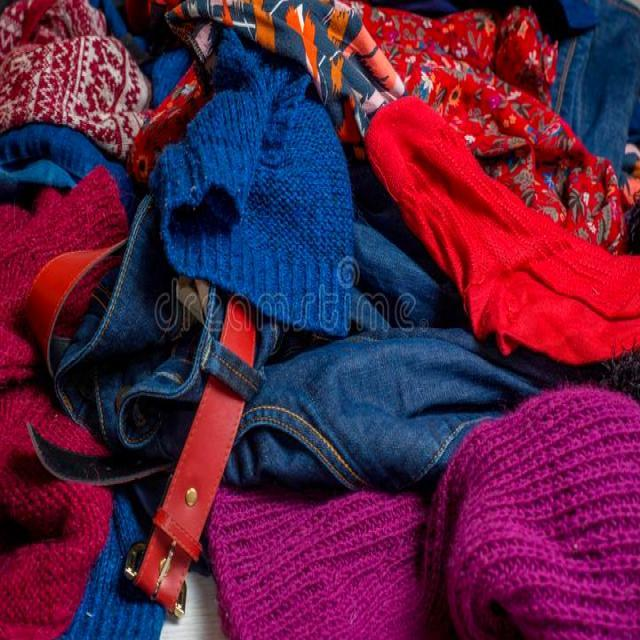clothes: (22, 40, 623, 607)
